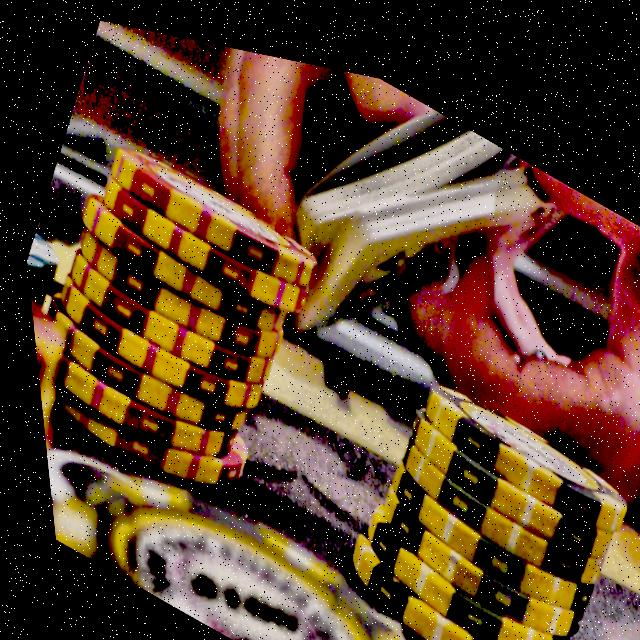Chip: (9, 105, 347, 539), (296, 310, 640, 640)
